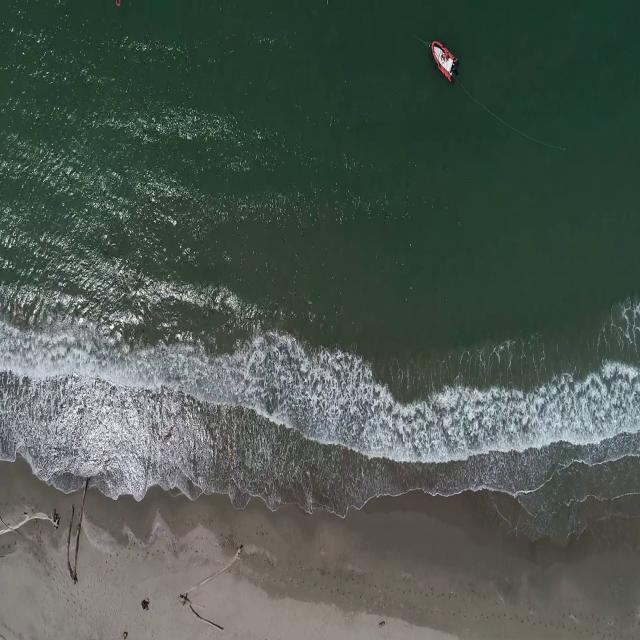boat: (431, 38, 459, 83)
wood: (176, 546, 243, 596), (67, 476, 88, 588), (178, 593, 226, 631), (0, 510, 64, 534)
